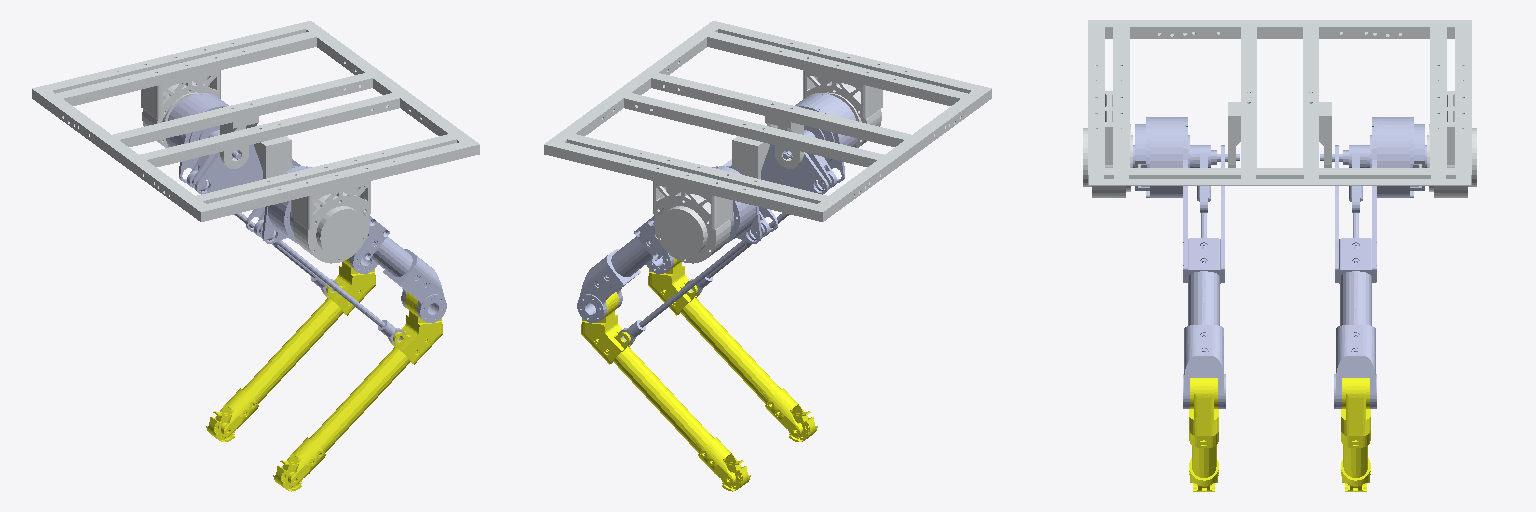
robot.urdf — model_urdf:
<?xml version="1.0" encoding="utf-8"?>
<!-- This URDF was automatically created by SolidWorks to URDF Exporter! Originally created by [author] ([email redacted]) 
     Commit Version: 1.6.0-1-g15f4949  Build Version: 1.6.7594.29634
     For more information, please see http://wiki.ros.org/sw_urdf_exporter -->
<robot
  name="model_urdf">
  <link
    name="base_link">
    <inertial>
      <origin
        xyz="-0.00189360692020032 2.3503970908445E-08 0.476981630876272"
        rpy="0 0 0" />
      <mass
        value="1.78172861574279" />
      <inertia
        ixx="0.0157193595042144"
        ixy="4.03458809484878E-10"
        ixz="7.77942373683242E-07"
        iyy="0.0134755990716162"
        iyz="1.38092999148394E-10"
        izz="0.0280832939636085" />
    </inertial>
    <visual>
      <origin
        xyz="0 0 0"
        rpy="0 0 0" />
      <geometry>
        <mesh
          filename="package://model_urdf/meshes/base_link.STL" />
      </geometry>
      <material
        name="">
        <color
          rgba="0.898039215686275 0.917647058823529 0.929411764705882 1" />
      </material>
    </visual>
    <collision>
      <origin
        xyz="0 0 0"
        rpy="0 0 0" />
      <geometry>
        <mesh
          filename="package://model_urdf/meshes/base_link.STL" />
      </geometry>
    </collision>
  </link>
  <link
    name="Left_Link1">
    <inertial>
      <origin
        xyz="0.0789283207883215 0.00528249137468845 -0.0640403328645276"
        rpy="0 0 0" />
      <mass
        value="0.922870675880155" />
      <inertia
        ixx="0.000603937980956197"
        ixy="-0.000174003241138871"
        ixz="3.48802270746669E-07"
        iyy="0.00123111274771293"
        iyz="1.10518103186508E-07"
        izz="0.00154943201224718" />
    </inertial>
    <visual>
      <origin
        xyz="0 0 0"
        rpy="0 0 0" />
      <geometry>
        <mesh
          filename="package://model_urdf/meshes/Left_Link1.STL" />
      </geometry>
      <material
        name="">
        <color
          rgba="0.792156862745098 0.819607843137255 0.933333333333333 1" />
      </material>
    </visual>
    <collision>
      <origin
        xyz="0 0 0"
        rpy="0 0 0" />
      <geometry>
        <mesh
          filename="package://model_urdf/meshes/Left_Link1.STL" />
      </geometry>
    </collision>
  </link>
  <joint
    name="joint1"
    type="continuous">
    <origin
      xyz="3.90579500608862E-05 -0.1776 0.442293358799571"
      rpy="1.5707963267949 0.785398163397425 0" />
    <parent
      link="base_link" />
    <child
      link="Left_Link1" />
    <axis
      xyz="0 0 -1" />
  </joint>
  <link
    name="Left_Link2">
    <inertial>
      <origin
        xyz="0.00701592304090226 -0.00816888372407007 -0.0119533382148835"
        rpy="0 0 0" />
      <mass
        value="0.0574038646002277" />
      <inertia
        ixx="1.85567649161845E-05"
        ixy="-4.31736544890542E-06"
        ixz="-3.24971748797355E-07"
        iyy="1.91028896032956E-05"
        iyz="3.79257255895711E-07"
        izz="3.05314063218276E-05" />
    </inertial>
    <visual>
      <origin
        xyz="0 0 0"
        rpy="0 0 0" />
      <geometry>
        <mesh
          filename="package://model_urdf/meshes/Left_Link2.STL" />
      </geometry>
      <material
        name="">
        <color
          rgba="0.792156862745098 0.819607843137255 0.933333333333333 1" />
      </material>
    </visual>
    <collision>
      <origin
        xyz="0 0 0"
        rpy="0 0 0" />
      <geometry>
        <mesh
          filename="package://model_urdf/meshes/Left_Link2.STL" />
      </geometry>
    </collision>
  </link>
  <joint
    name="joint2"
    type="continuous">
    <origin
      xyz="0 0 -0.0693000000000001"
      rpy="0 0 0" />
    <parent
      link="Left_Link1" />
    <child
      link="Left_Link2" />
    <axis
      xyz="0 0 -1" />
  </joint>
  <link
    name="Left_Link4">
    <inertial>
      <origin
        xyz="0.150000000000002 8.88178419700125E-16 -2.22044604925031E-16"
        rpy="0 0 0" />
      <mass
        value="0.0249904323097953" />
      <inertia
        ixx="6.19005920434781E-07"
        ixy="-8.40309623235469E-19"
        ixz="-1.00608496160489E-19"
        iyy="7.99002270685314E-05"
        iyz="1.41026832688067E-22"
        izz="8.00741637052169E-05" />
    </inertial>
    <visual>
      <origin
        xyz="0 0 0"
        rpy="0 0 0" />
      <geometry>
        <mesh
          filename="package://model_urdf/meshes/Left_Link4.STL" />
      </geometry>
      <material
        name="">
        <color
          rgba="0.792156862745098 0.819607843137255 0.933333333333333 1" />
      </material>
    </visual>
    <collision>
      <origin
        xyz="0 0 0"
        rpy="0 0 0" />
      <geometry>
        <mesh
          filename="package://model_urdf/meshes/Left_Link4.STL" />
      </geometry>
    </collision>
  </link>
  <joint
    name="join12"
    type="continuous">
    <origin
      xyz="0 -0.0599999999999985 -0.0167999999999999"
      rpy="-3.14159265358979 0 0" />
    <parent
      link="Left_Link2" />
    <child
      link="Left_Link4" />
    <axis
      xyz="0 0 -1" />
  </joint>
  <link
    name="Left_Link3">
    <inertial>
      <origin
        xyz="0.120290874468716 0.0157235597190458 5.02885731390457E-08"
        rpy="0 0 0" />
      <mass
        value="0.190634570256285" />
      <inertia
        ixx="5.83166861703411E-05"
        ixy="5.21798134995368E-05"
        ixz="8.45318100893091E-11"
        iyy="0.000589701719543432"
        iyz="-5.33543297668462E-11"
        izz="0.000609708381099533" />
    </inertial>
    <visual>
      <origin
        xyz="0 0 0"
        rpy="0 0 0" />
      <geometry>
        <mesh
          filename="package://model_urdf/meshes/Left_Link3.STL" />
      </geometry>
      <material
        name="">
        <color
          rgba="0.984313725490196 1 0.196078431372549 1" />
      </material>
    </visual>
    <collision>
      <origin
        xyz="0 0 0"
        rpy="0 0 0" />
      <geometry>
        <mesh
          filename="package://model_urdf/meshes/Left_Link3.STL" />
      </geometry>
    </collision>
  </link>
  <joint
    name="joint11"
    type="continuous">
    <origin
      xyz="0.299999999999998 0 -0.0860999999999987"
      rpy="0 0 -1.57081934615907" />
    <parent
      link="Left_Link1" />
    <child
      link="Left_Link3" />
    <axis
      xyz="0 0 -1" />
  </joint>
  <link
    name="Right_Link1">
    <inertial>
      <origin
        xyz="0.0789282330953898 -0.00528248948328991 -0.0640403429291297"
        rpy="0 0 0" />
      <mass
        value="0.922870134883726" />
      <inertia
        ixx="0.000603937918526634"
        ixy="0.000174003237129537"
        ixz="3.48956308184333E-07"
        iyy="0.00123111260676014"
        iyz="-1.10606481968914E-07"
        izz="0.00154943169325789" />
    </inertial>
    <visual>
      <origin
        xyz="0 0 0"
        rpy="0 0 0" />
      <geometry>
        <mesh
          filename="package://model_urdf/meshes/Right_Link1.STL" />
      </geometry>
      <material
        name="">
        <color
          rgba="0.792156862745098 0.819607843137255 0.933333333333333 1" />
      </material>
    </visual>
    <collision>
      <origin
        xyz="0 0 0"
        rpy="0 0 0" />
      <geometry>
        <mesh
          filename="package://model_urdf/meshes/Right_Link1.STL" />
      </geometry>
    </collision>
  </link>
  <joint
    name="joint3"
    type="continuous">
    <origin
      xyz="3.90579500610319E-05 0.1776 0.442293358799571"
      rpy="-1.5707963267949 0.785398163397425 0" />
    <parent
      link="base_link" />
    <child
      link="Right_Link1" />
    <axis
      xyz="0 0 -1" />
  </joint>
  <link
    name="Right_Link2">
    <inertial>
      <origin
        xyz="0.00701592304090226 0.00816888372406997 -0.0119533382148835"
        rpy="0 0 0" />
      <mass
        value="0.0574038646002277" />
      <inertia
        ixx="1.85567649161845E-05"
        ixy="4.31736544890541E-06"
        ixz="-3.2497174879734E-07"
        iyy="1.91028896032956E-05"
        iyz="-3.79257255895722E-07"
        izz="3.05314063218275E-05" />
    </inertial>
    <visual>
      <origin
        xyz="0 0 0"
        rpy="0 0 0" />
      <geometry>
        <mesh
          filename="package://model_urdf/meshes/Right_Link2.STL" />
      </geometry>
      <material
        name="">
        <color
          rgba="0.792156862745098 0.819607843137255 0.933333333333333 1" />
      </material>
    </visual>
    <collision>
      <origin
        xyz="0 0 0"
        rpy="0 0 0" />
      <geometry>
        <mesh
          filename="package://model_urdf/meshes/Right_Link2.STL" />
      </geometry>
    </collision>
  </link>
  <joint
    name="joint4"
    type="continuous">
    <origin
      xyz="0 0 -0.0693"
      rpy="0 0 0" />
    <parent
      link="Right_Link1" />
    <child
      link="Right_Link2" />
    <axis
      xyz="0 0 -1" />
  </joint>
  <link
    name="Right_Link4">
    <inertial>
      <origin
        xyz="0.150000000000003 -7.7715611723761E-16 -1.94289029309402E-16"
        rpy="0 0 0" />
      <mass
        value="0.0249904323097953" />
      <inertia
        ixx="6.19005920434819E-07"
        ixy="8.34539211282299E-19"
        ixz="-1.09889947909391E-19"
        iyy="7.99002270685315E-05"
        iyz="4.27167832402032E-23"
        izz="8.0074163705217E-05" />
    </inertial>
    <visual>
      <origin
        xyz="0 0 0"
        rpy="0 0 0" />
      <geometry>
        <mesh
          filename="package://model_urdf/meshes/Right_Link4.STL" />
      </geometry>
      <material
        name="">
        <color
          rgba="0.792156862745098 0.819607843137255 0.933333333333333 1" />
      </material>
    </visual>
    <collision>
      <origin
        xyz="0 0 0"
        rpy="0 0 0" />
      <geometry>
        <mesh
          filename="package://model_urdf/meshes/Right_Link4.STL" />
      </geometry>
    </collision>
  </link>
  <joint
    name="joint22"
    type="continuous">
    <origin
      xyz="0 0.0599999999999985 -0.0167999999999999"
      rpy="-3.14159265358979 0 0" />
    <parent
      link="Right_Link2" />
    <child
      link="Right_Link4" />
    <axis
      xyz="0 0 -1" />
  </joint>
  <link
    name="Right_Link3">
    <inertial>
      <origin
        xyz="0.120290770266934 -0.0157235854138914 5.75236471789253E-08"
        rpy="0 0 0" />
      <mass
        value="0.190633901636459" />
      <inertia
        ixx="5.83168066576482E-05"
        ixy="-5.21794465081923E-05"
        ixz="-2.09498544616916E-10"
        iyy="0.000589700592501249"
        iyz="-1.63109320687134E-10"
        izz="0.000609707051116964" />
    </inertial>
    <visual>
      <origin
        xyz="0 0 0"
        rpy="0 0 0" />
      <geometry>
        <mesh
          filename="package://model_urdf/meshes/Right_Link3.STL" />
      </geometry>
      <material
        name="">
        <color
          rgba="0.984313725490196 1 0.196078431372549 1" />
      </material>
    </visual>
    <collision>
      <origin
        xyz="0 0 0"
        rpy="0 0 0" />
      <geometry>
        <mesh
          filename="package://model_urdf/meshes/Right_Link3.STL" />
      </geometry>
    </collision>
  </link>
  <joint
    name="joint21"
    type="continuous">
    <origin
      xyz="0.299999999999998 0 -0.0860999999999996"
      rpy="0 0 1.57081934615907" />
    <parent
      link="Right_Link1" />
    <child
      link="Right_Link3" />
    <axis
      xyz="0 0 -1" />
  </joint>
</robot>

--- Render facts (derived) ---
3 views of the same robot in one strip: view 1: azimuth 30°, elevation 25°; view 2: azimuth 150°, elevation 25°; view 3: azimuth 270°, elevation 25° (orthographic).
Robot: model_urdf — 9 links, 8 joints (8 continuous); root link base_link; default pose: all joints at 0.
Visible links, largest first — view 1: base_link, Left_Link3, Right_Link3, Left_Link1, Right_Link1, Left_Link4, Right_Link4; view 2: base_link, Right_Link3, Left_Link3, Right_Link1, Left_Link1, Right_Link4, Left_Link4; view 3: base_link, Left_Link1, Right_Link1, Left_Link3, Right_Link3, Left_Link2, Right_Link2.
Boxes of the visible links, x1=… form: base_link: x1=32, y1=21, x2=479, y2=263; Left_Link3: x1=273, y1=292, x2=442, y2=491; Right_Link3: x1=206, y1=258, x2=375, y2=441; Left_Link1: x1=246, y1=166, x2=446, y2=322; Right_Link1: x1=166, y1=93, x2=377, y2=273; Left_Link4: x1=254, y1=220, x2=405, y2=345; Right_Link4: x1=187, y1=171, x2=338, y2=295; base_link: x1=544, y1=21, x2=991, y2=263; Right_Link3: x1=581, y1=292, x2=750, y2=491; Left_Link3: x1=648, y1=258, x2=817, y2=441; Right_Link1: x1=577, y1=166, x2=777, y2=322; Left_Link1: x1=646, y1=93, x2=857, y2=273; Right_Link4: x1=618, y1=220, x2=769, y2=345; Left_Link4: x1=685, y1=171, x2=836, y2=295; base_link: x1=1083, y1=20, x2=1476, y2=197; Left_Link1: x1=1133, y1=117, x2=1225, y2=408; Right_Link1: x1=1334, y1=117, x2=1426, y2=408; Left_Link3: x1=1189, y1=378, x2=1218, y2=491; Right_Link3: x1=1341, y1=378, x2=1370, y2=491; Left_Link2: x1=1190, y1=145, x2=1239, y2=212; Right_Link2: x1=1320, y1=145, x2=1369, y2=212.
Bounding box of the posed robot: 0.456 × 0.4746 × 0.5223 m (x, y, z).
9 mesh visuals loaded from 9 distinct referenced files (9 binary STL).